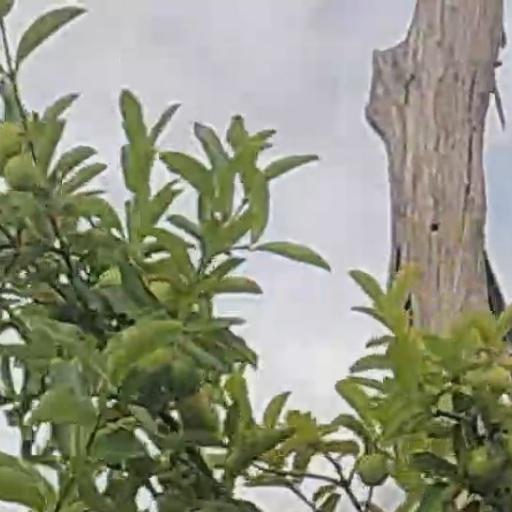acerola: (5, 154, 34, 190), (361, 455, 385, 481), (1, 124, 21, 154)
